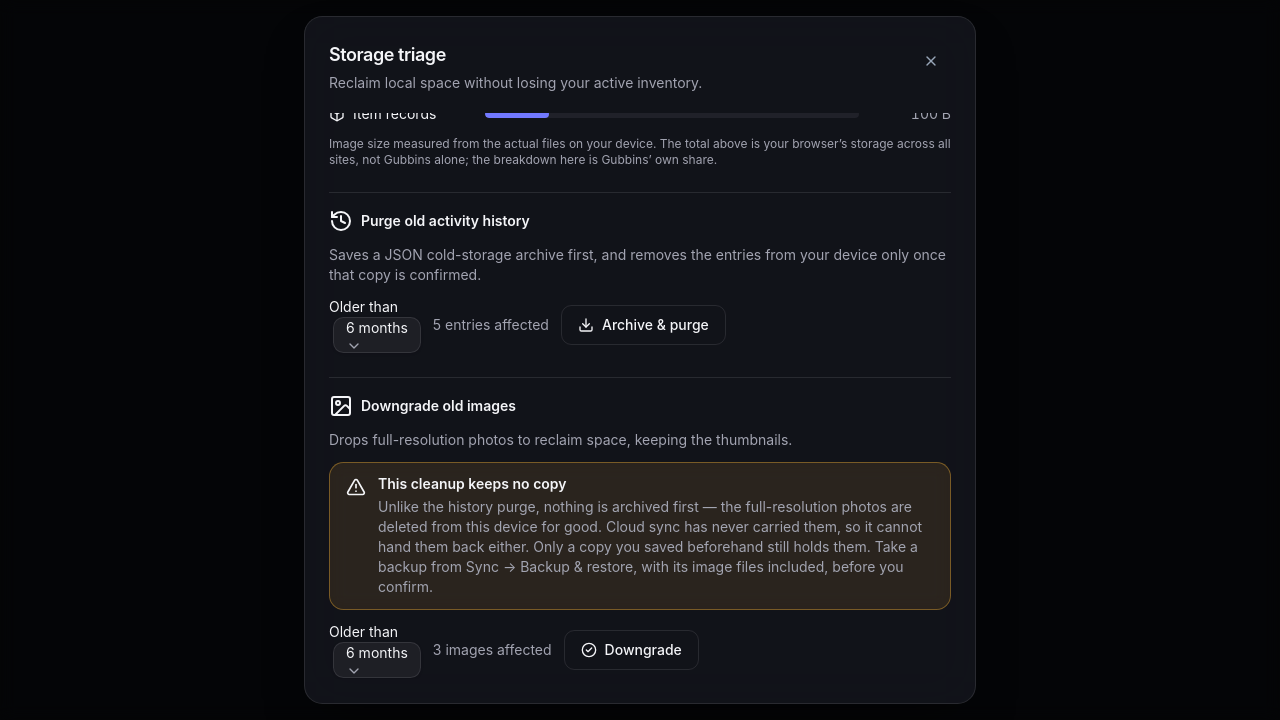
it: StorageTriageDialog — the downgrade keeps no copy, and says so (issue #824) › says the deletion cannot be undone in the confirmation itself
(page scrolled)
Click the button with test id "downgrade-images": (631, 650) [564, 630, 699, 670]
(page scrolled)
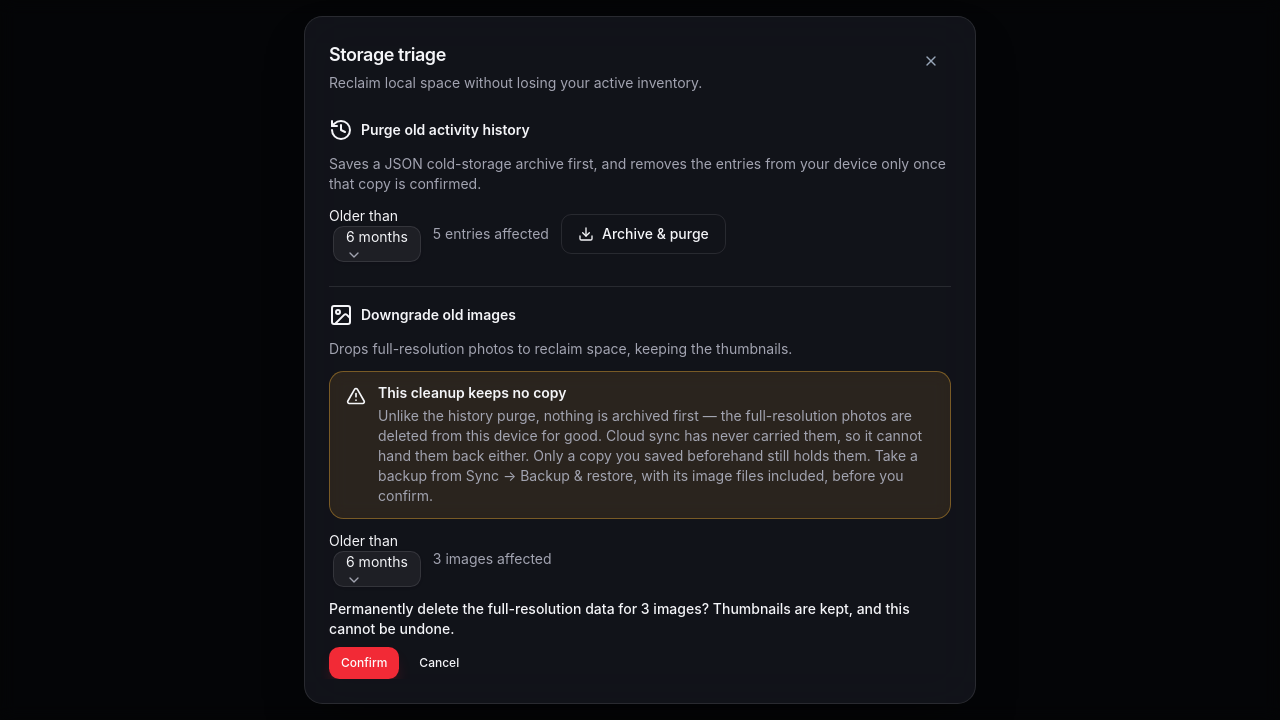
Expected: the dialog named "Confirm" shows "cannot be undone", [329, 600, 910, 636]
